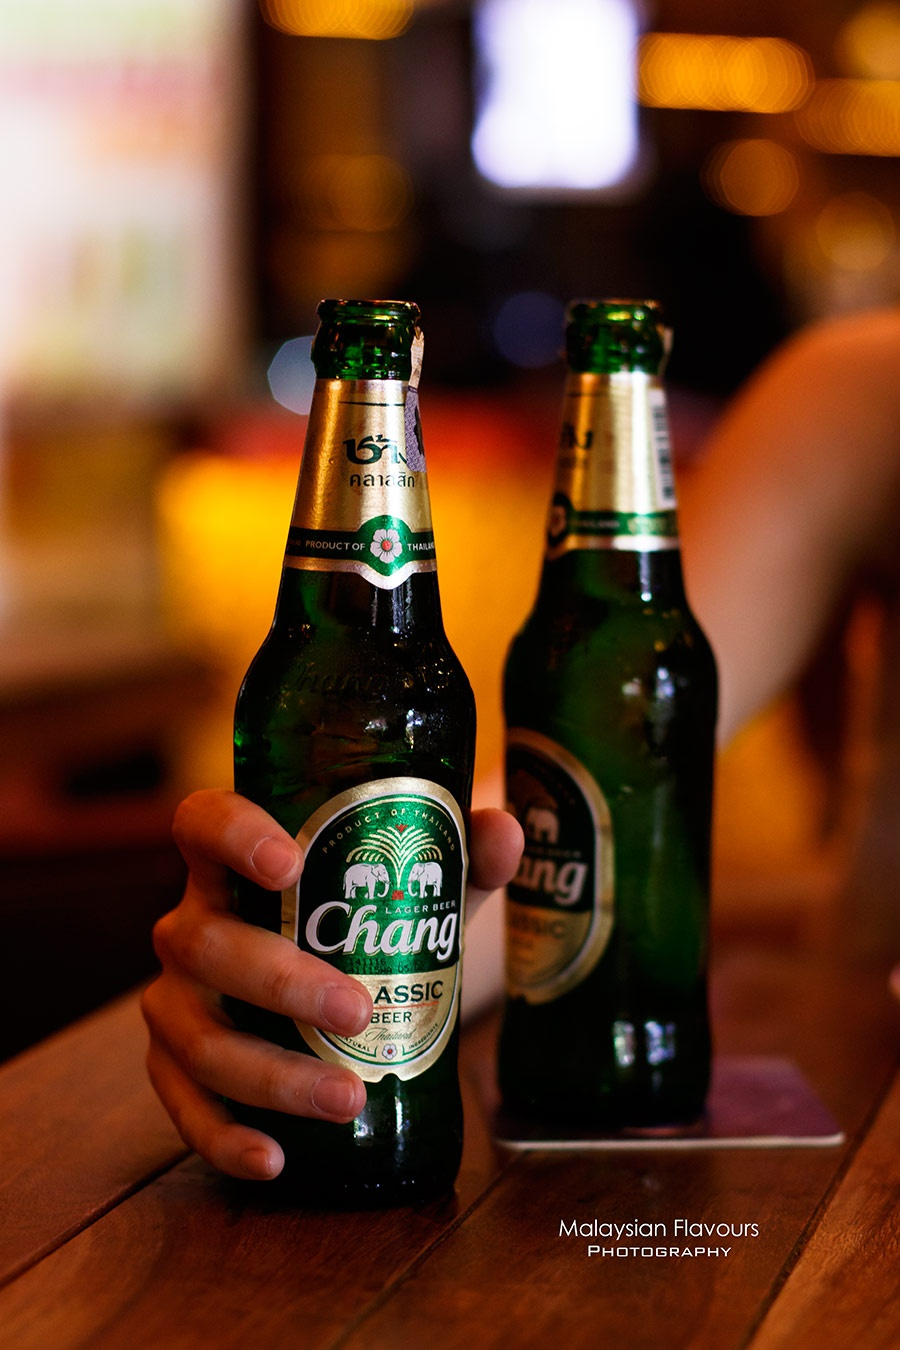beerBottle: (233, 301, 473, 1214), (497, 302, 726, 1131)
